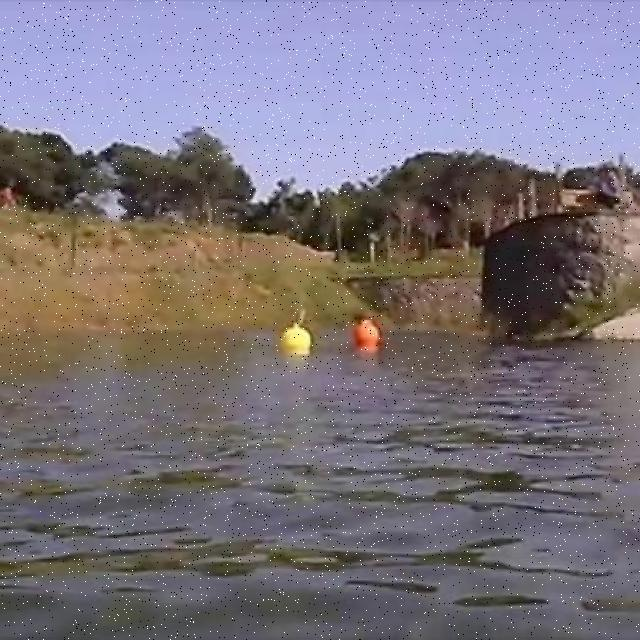buoy: (281, 320, 311, 358), (350, 314, 380, 347)
